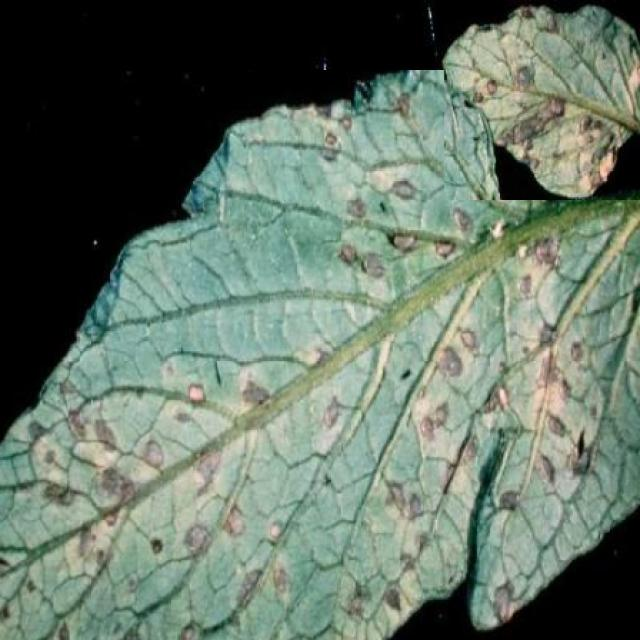Septoria: (0, 70, 640, 640), (444, 0, 640, 200)
